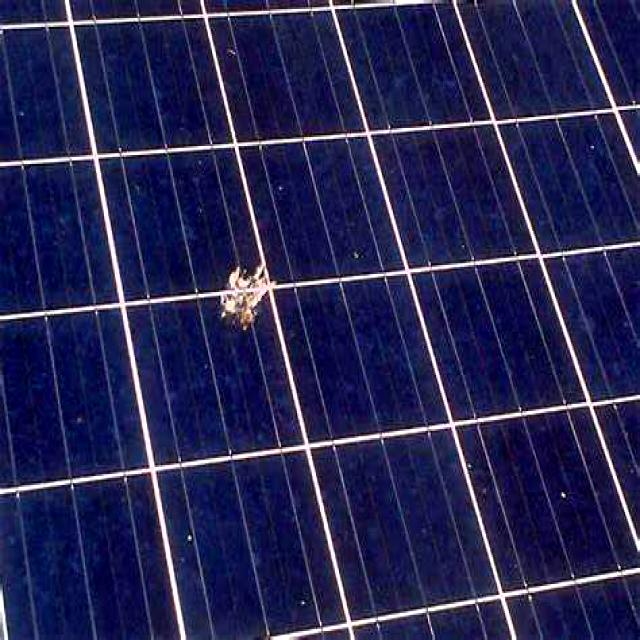bird: (213, 250, 287, 353)
